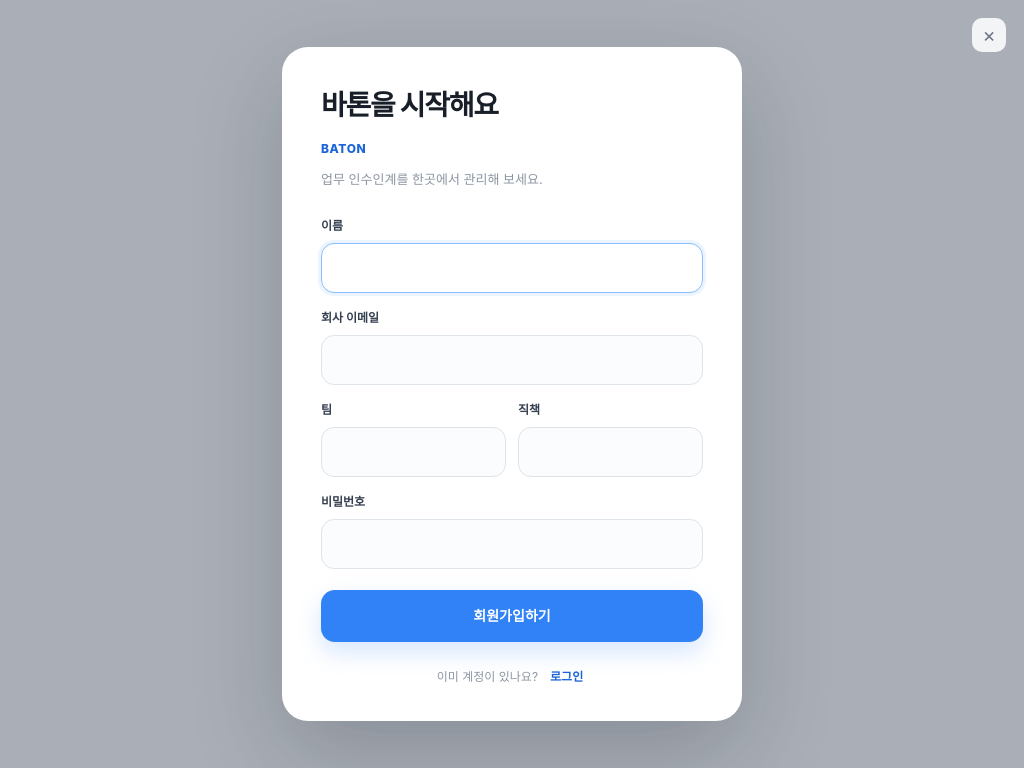
Test: SignupModal › keeps the form open and explains a duplicate email response
The width and height of the screenshot is (1024, 768).
In the field labelled "이름": (512, 268) [321, 243, 703, 293], type "김민준"
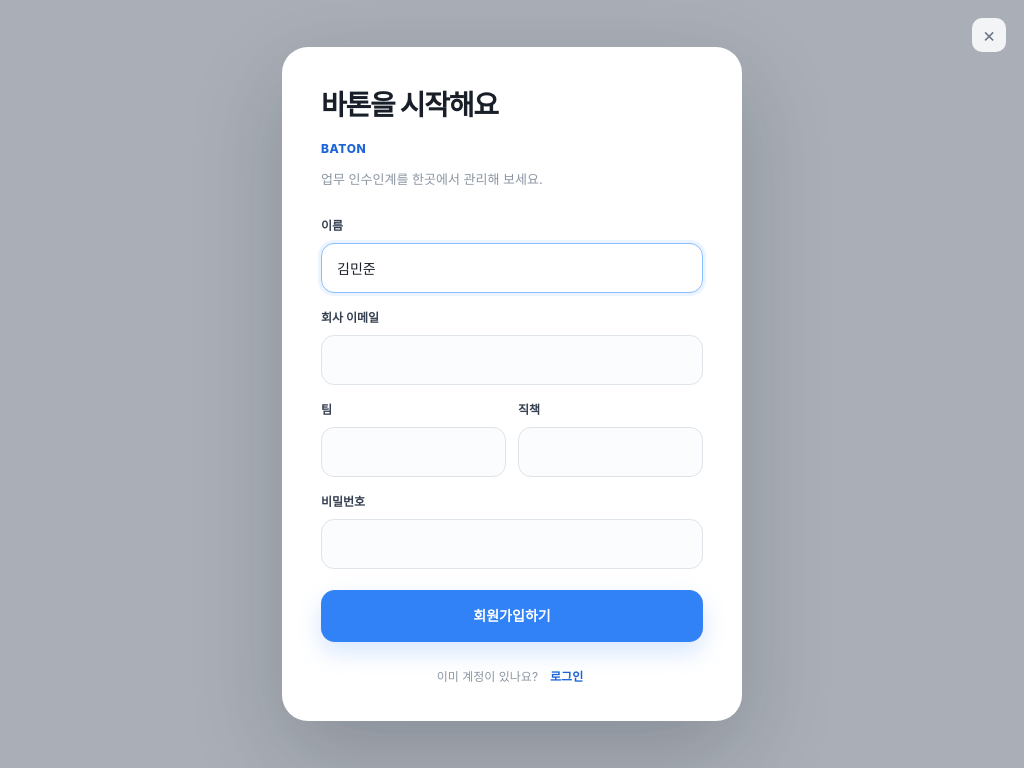
In the field labelled "회사 이메일": (512, 360) [321, 335, 703, 385], type "new-user@moastore.co.kr"
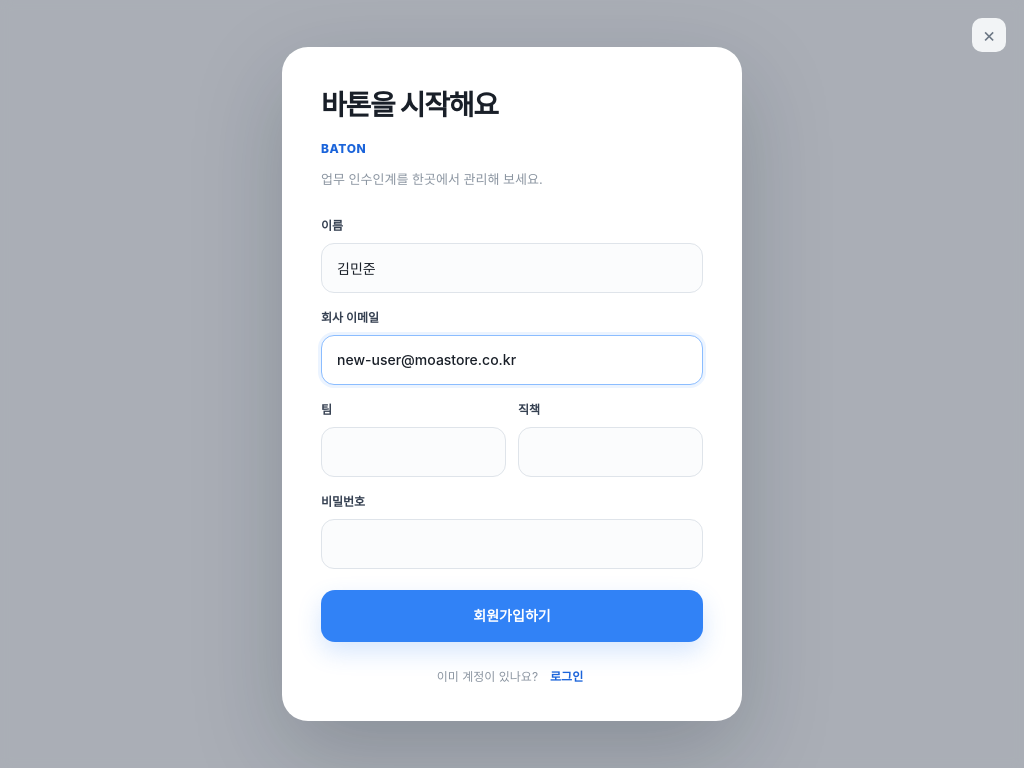
In the field labelled "팀": (414, 452) [321, 427, 506, 477], type "상품팀"
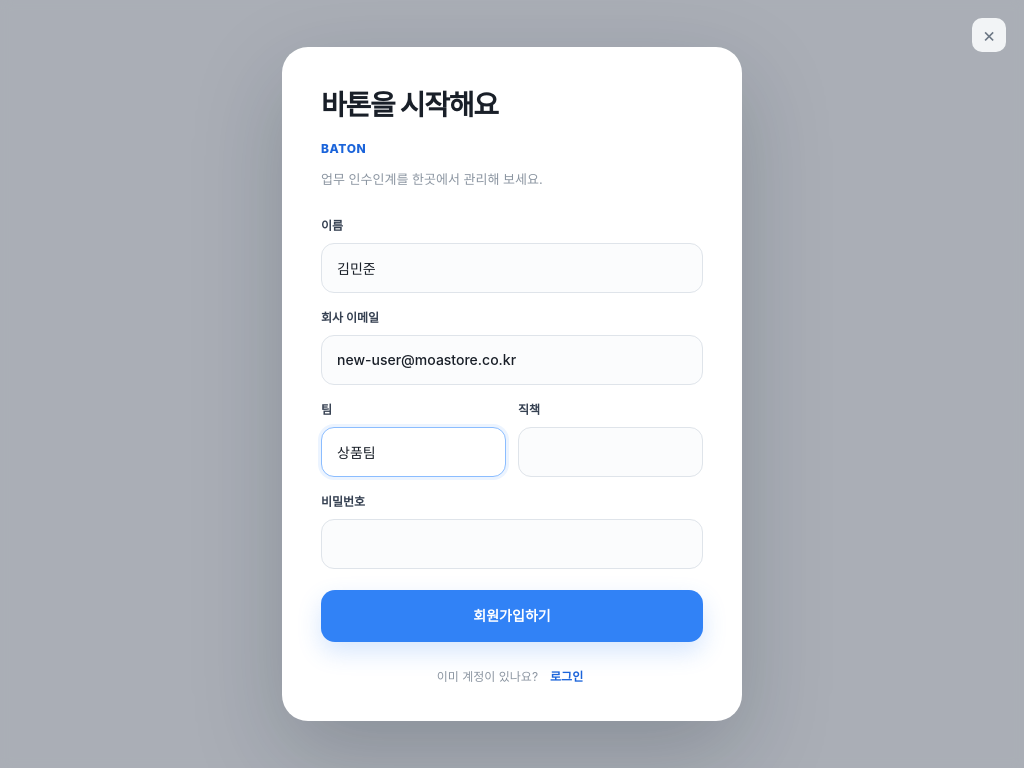
In the field labelled "직책": (610, 452) [518, 427, 703, 477], type "매니저"
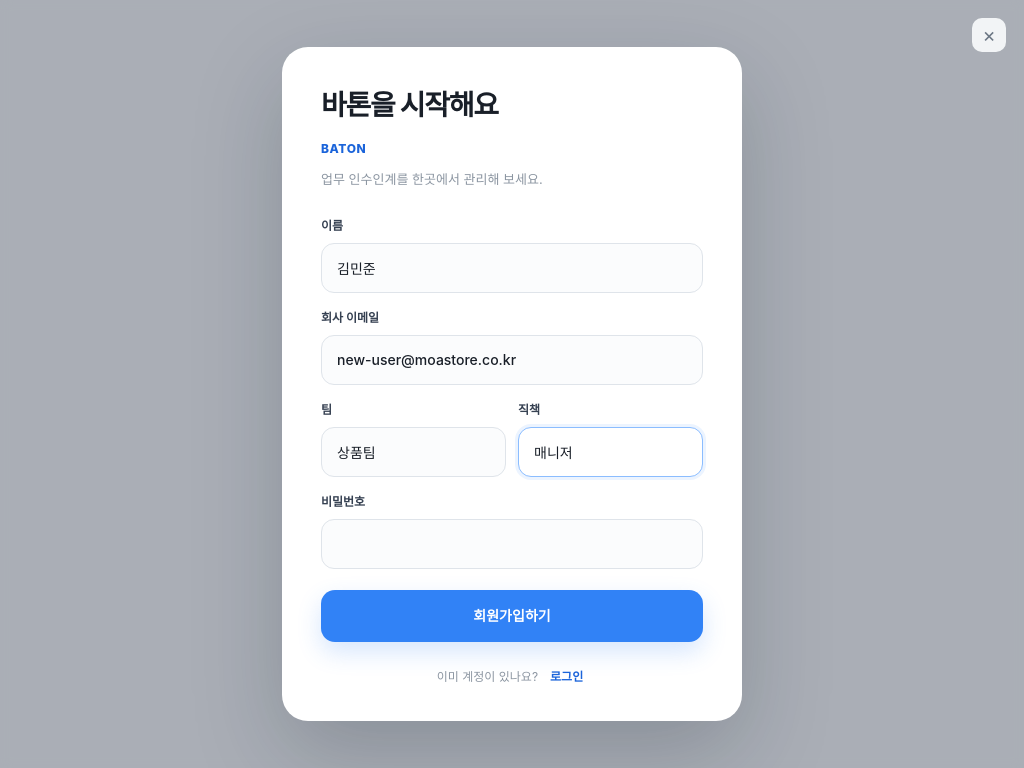
In the password field labelled "비밀번호": (512, 544) [321, 519, 703, 569], type "password123"
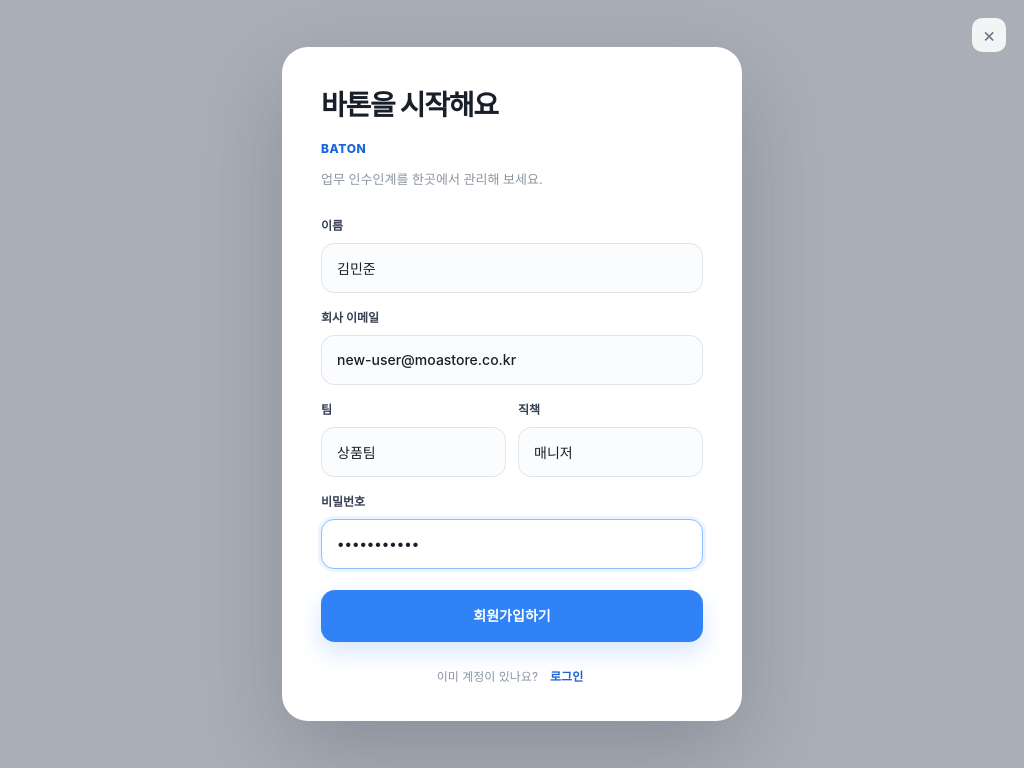
Click the button "회원가입하기": (512, 616) [321, 590, 703, 642]
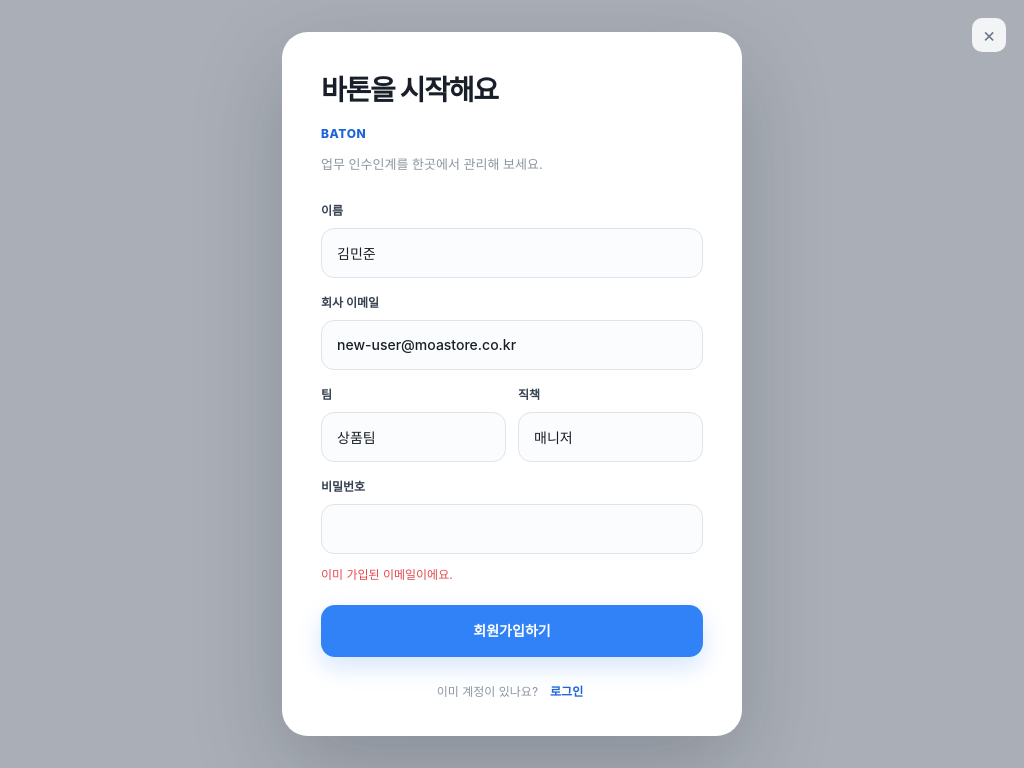
Now the message reads "이미 가입된 이메일이에요.", box [321, 567, 453, 582]
Now the password field labelled "비밀번호" is empty, box [321, 504, 703, 554]
